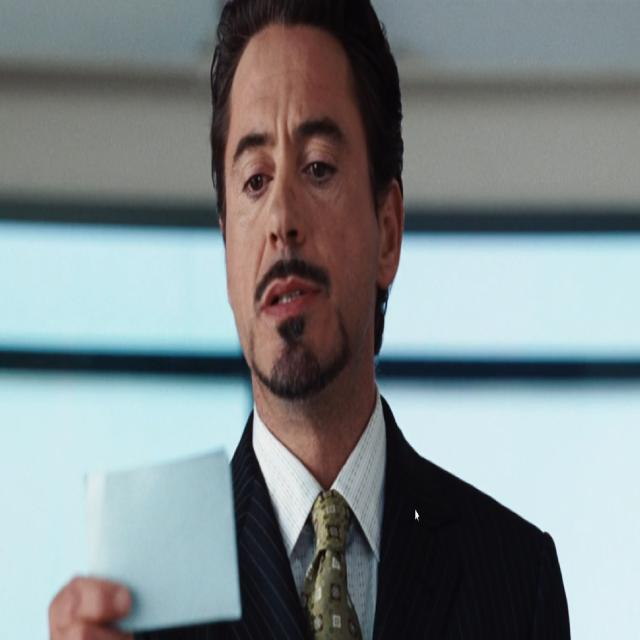human: (139, 2, 576, 640)
